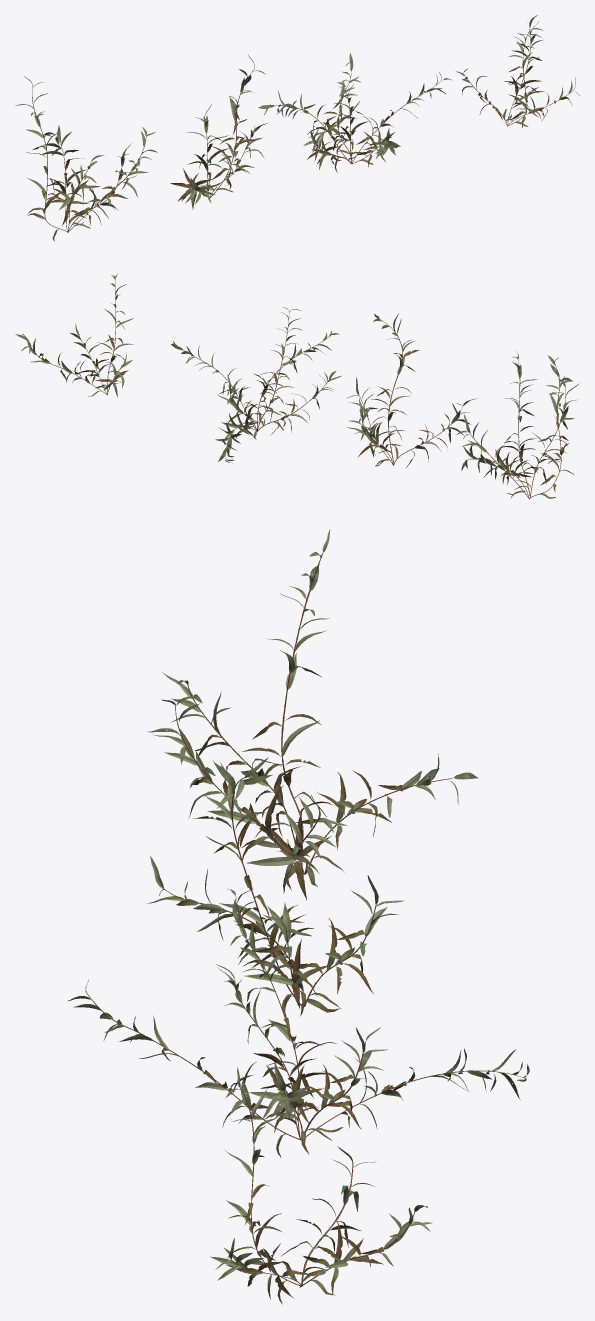
Rendered from roadside_weeds.glb.
The picture shows the model from 3 angles, top to bottom: view 1: azimuth 30°, elevation 25°; view 2: azimuth 150°, elevation 25°; view 3: azimuth 270°, elevation 25°; orthographic projection. The views are drawn at different scales.
Visible parts, largest first — view 1: shrub_02_c, shrub_02_a, shrub_02_b, shrub_02_d; view 2: shrub_02_c, shrub_02_a, shrub_02_b, shrub_02_d; view 3: shrub_02_a, shrub_02_c, shrub_02_b, shrub_02_d.
Part boxes in pixels (<box>): shrub_02_c: <box>258,53,452,172</box>; shrub_02_a: <box>15,76,157,241</box>; shrub_02_b: <box>170,55,268,209</box>; shrub_02_d: <box>455,15,579,127</box>; shrub_02_c: <box>171,307,341,463</box>; shrub_02_a: <box>456,351,579,499</box>; shrub_02_b: <box>346,313,477,468</box>; shrub_02_d: <box>15,274,134,397</box>; shrub_02_a: <box>147,529,478,900</box>; shrub_02_c: <box>67,888,529,1157</box>; shrub_02_b: <box>147,757,404,1018</box>; shrub_02_d: <box>210,1067,432,1304</box>.
Size of the model in its own units: 6.05 by 1.7 by 2.29.
Materials: 1 (1 with a texture image).
